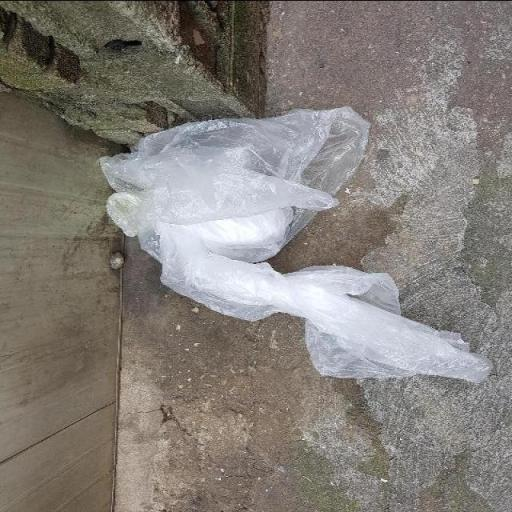plastic-bag: (98, 99, 496, 382)
